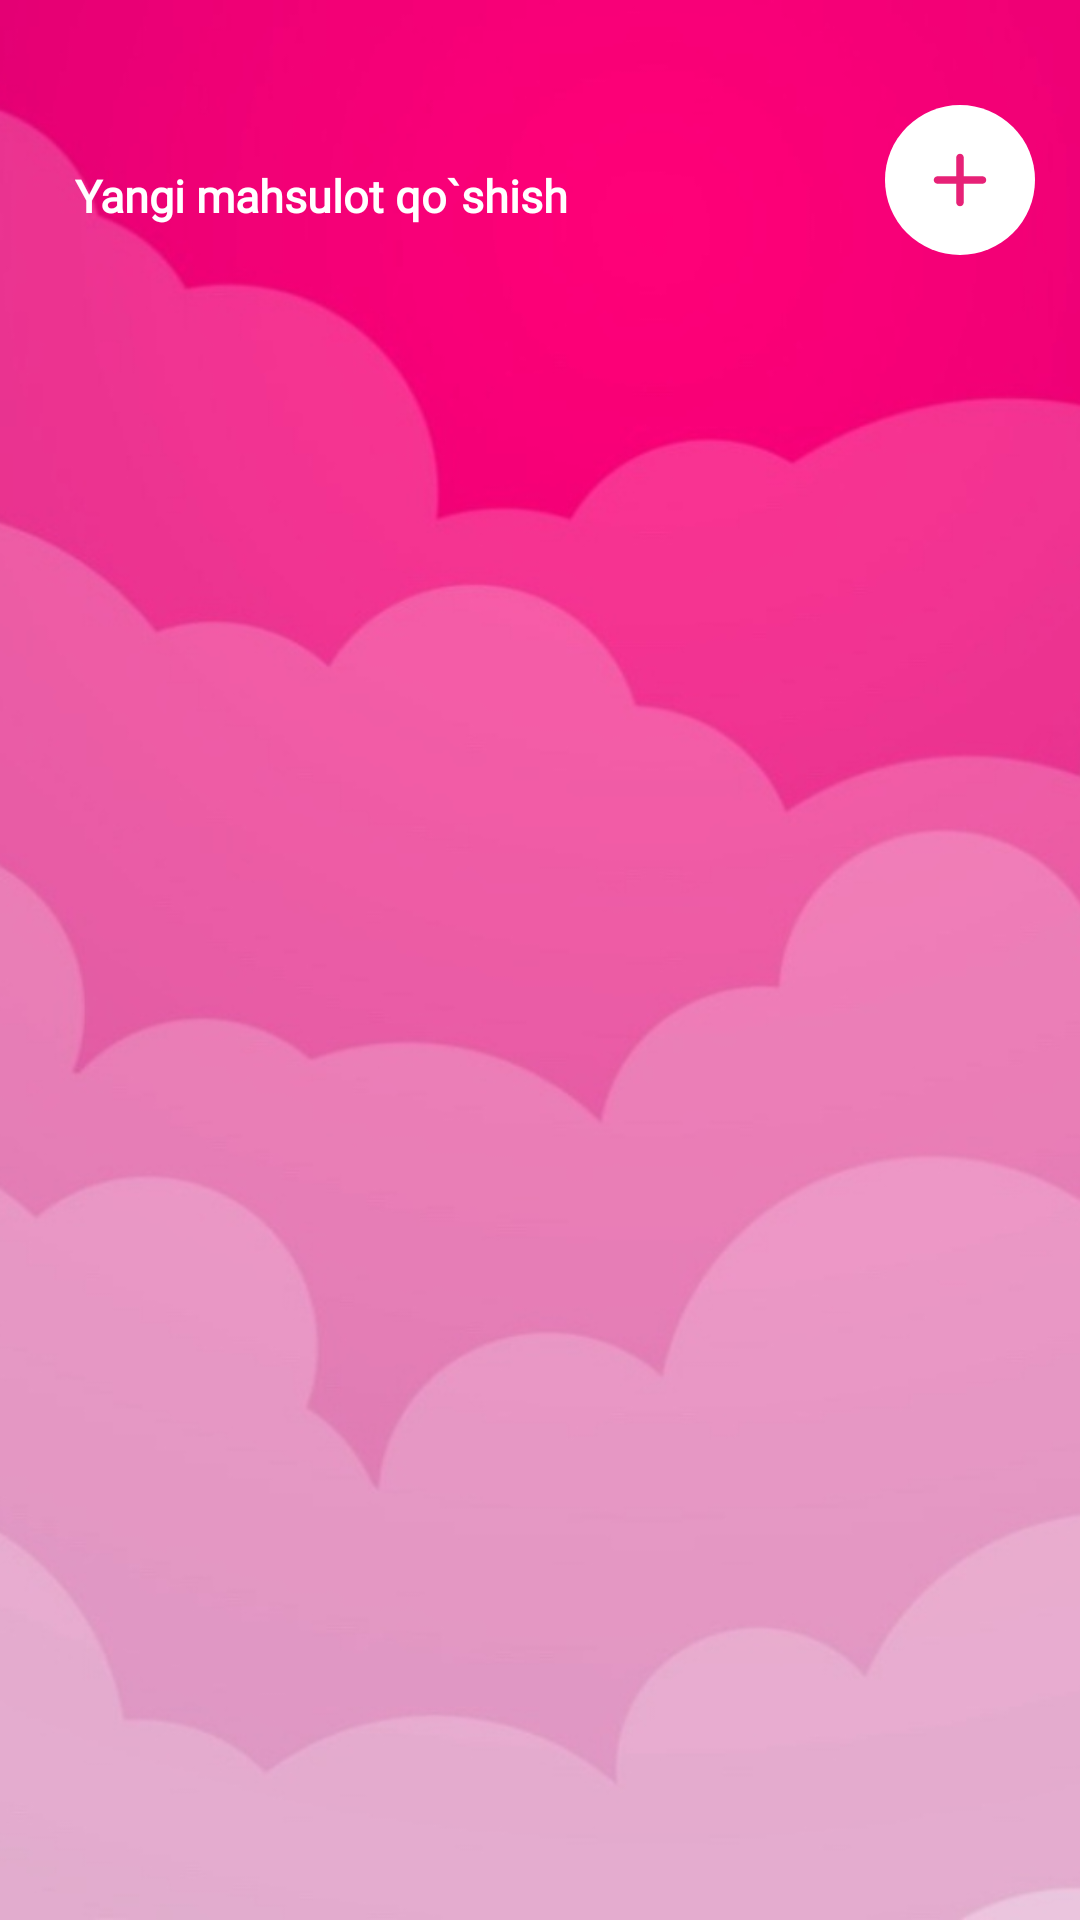

Screen size 1080x1920. Icon name, then its box in pixels as (x1=x1, y1=y1, x2=x2, y2=y2):
add: (x1=885, y1=105, x2=1035, y2=255)
